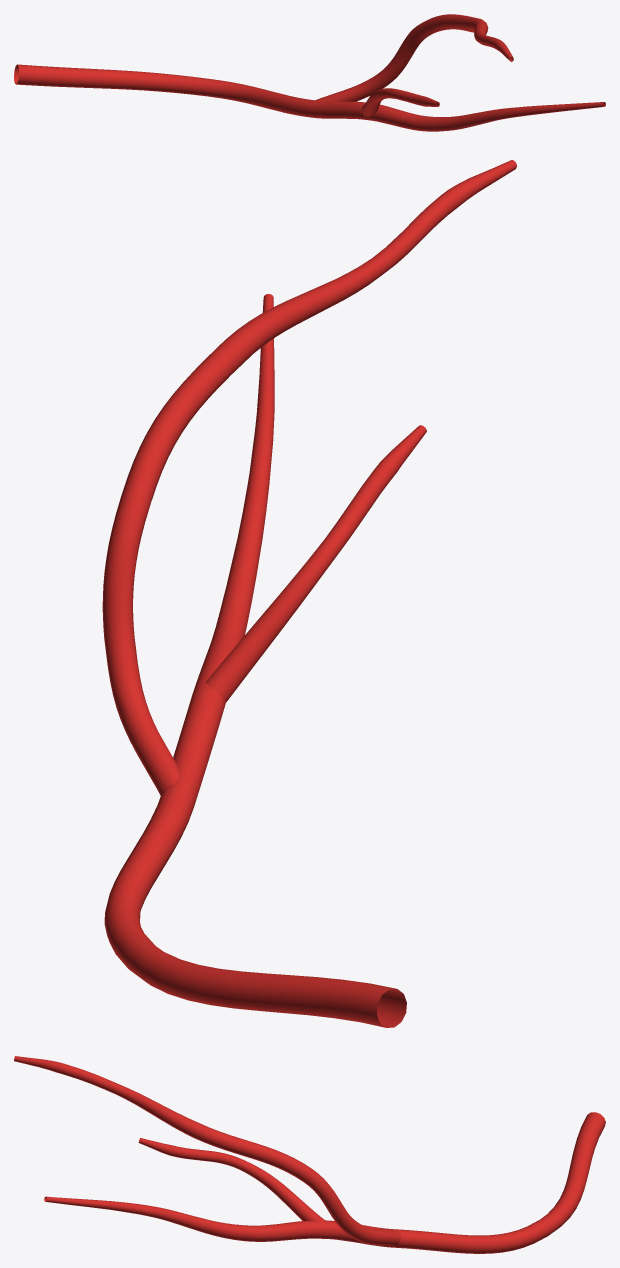
File: circulatorio-long-posterior-ciliary-arteries-l.glb
3 views of the same model, one above another, from view 1: azimuth 30°, elevation 25°; view 2: azimuth 150°, elevation 25°; view 3: azimuth 270°, elevation 25° (orthographic). The views are drawn at different scales.
Visible parts, largest first — view 1: Long posterior ciliary arteries.l; view 2: Long posterior ciliary arteries.l; view 3: Long posterior ciliary arteries.l.
Part boxes in pixels (x1,y1,x2,y2): Long posterior ciliary arteries.l: (14, 14, 605, 131); Long posterior ciliary arteries.l: (102, 160, 516, 1027); Long posterior ciliary arteries.l: (14, 1056, 605, 1253).
Bounding box in the file's own units: 0.015 × 0.00896 × 0.0223.
